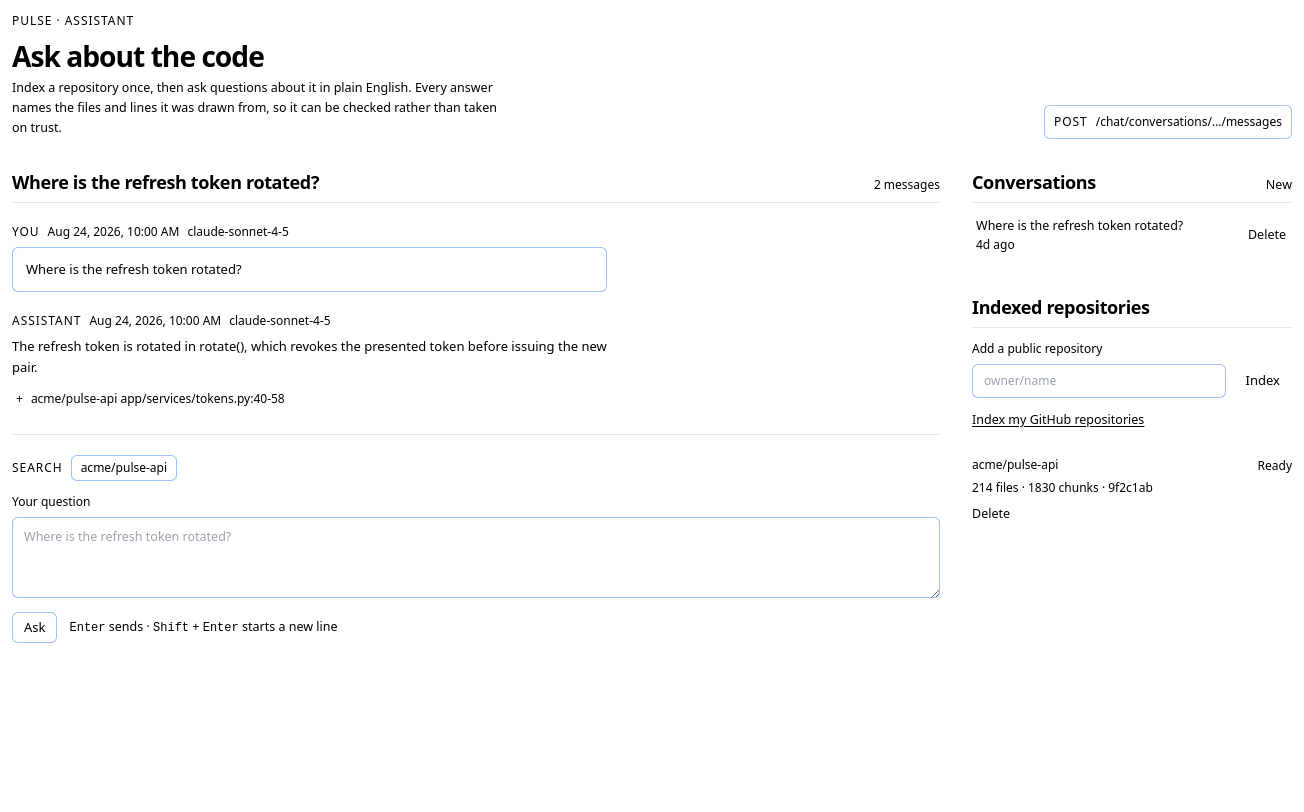
Scenario: /chat · the index › refuses anything that is not owner/name, and does not send it
Type "just some words" into the field with test id "repo-input".
click(1099, 380); type("just some words")  # box x1=972 y1=364 x2=1226 y2=398
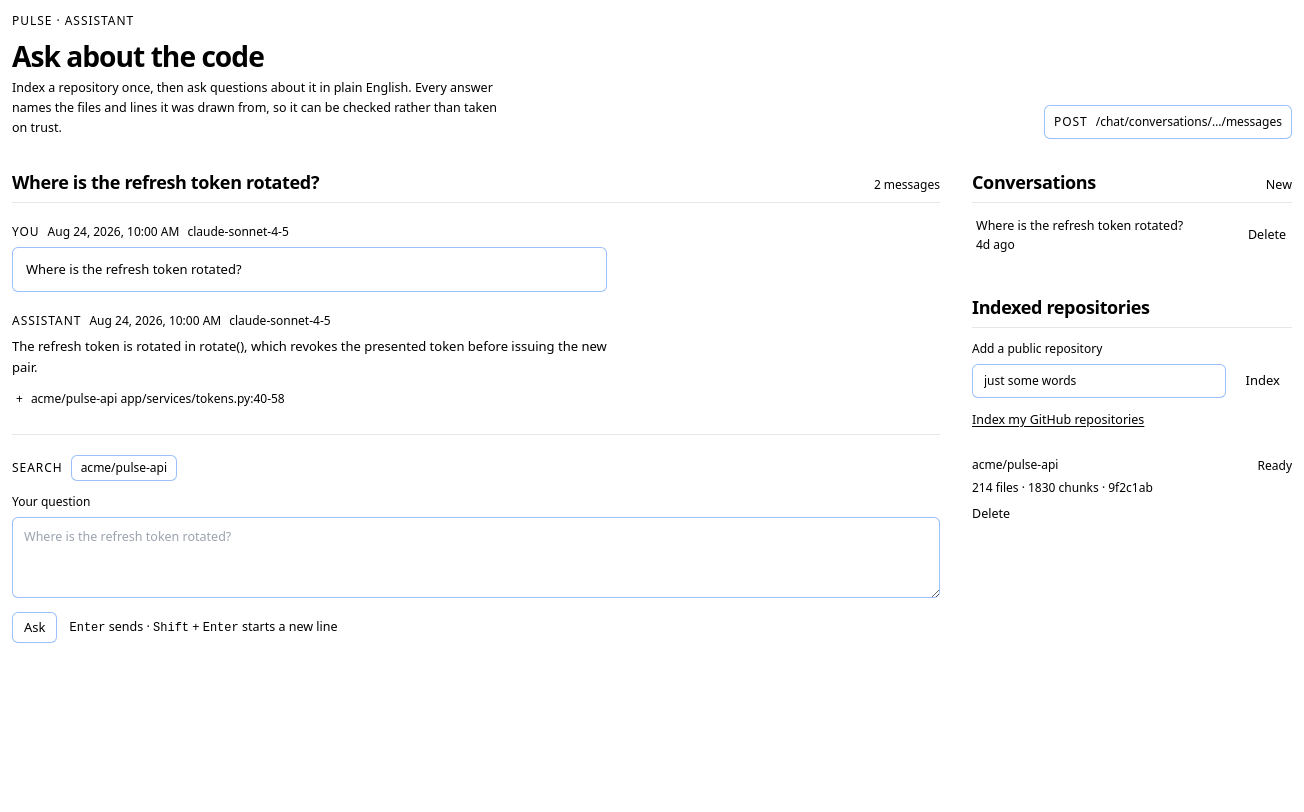
Click the button with test id "repo-add".
click(1263, 380)  # box x1=1234 y1=364 x2=1292 y2=398
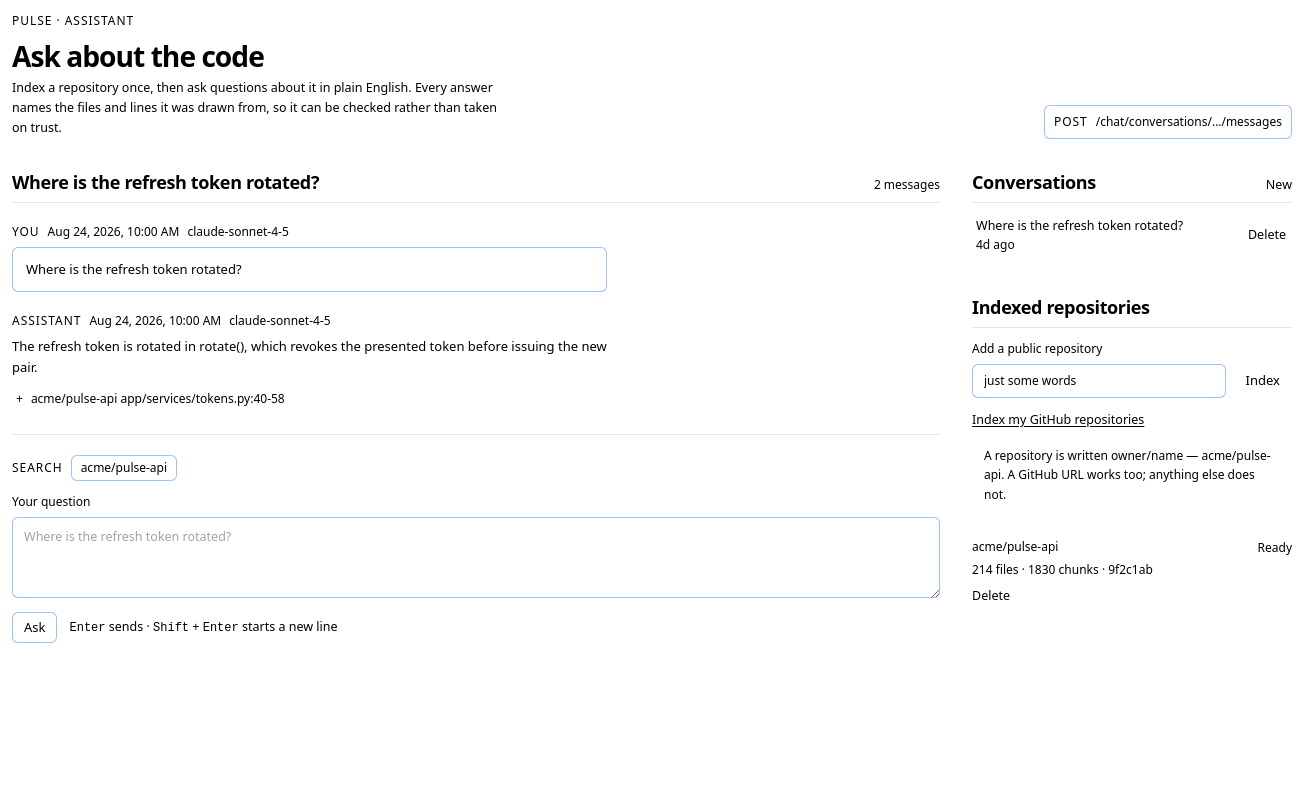
Expected: the message with test id "repo-error" shows "owner/name", x1=984 y1=446 x2=1271 y2=502
